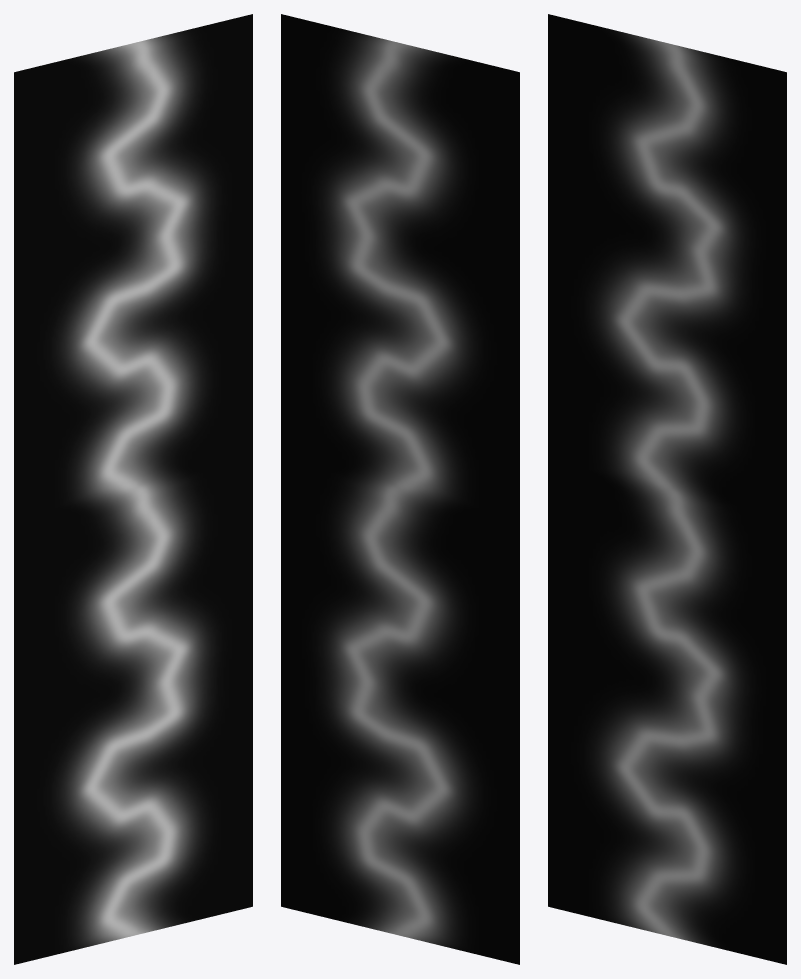
Rendered from lightning_beam_vfx.fbx.
The picture shows the model from 3 angles, left to right: view 1: azimuth 30°, elevation 25°; view 2: azimuth 150°, elevation 25°; view 3: azimuth 330°, elevation 25°; orthographic projection.
Visible parts, largest first — view 1: lightning_beam_vfx; view 2: lightning_beam_vfx; view 3: lightning_beam_vfx.
Boxes of the visible parts, x1,y1,x2,y2 form: lightning_beam_vfx: [14, 14, 252, 964]; lightning_beam_vfx: [281, 14, 519, 964]; lightning_beam_vfx: [548, 14, 786, 964].
Size of the model in its own units: 112 by 400 by 6.52e-05.
